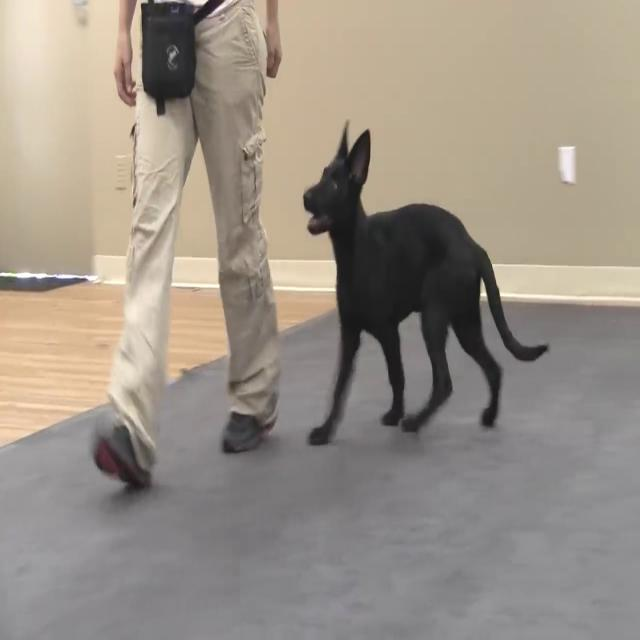Unleashed_Dog: (177, 0, 549, 444)
